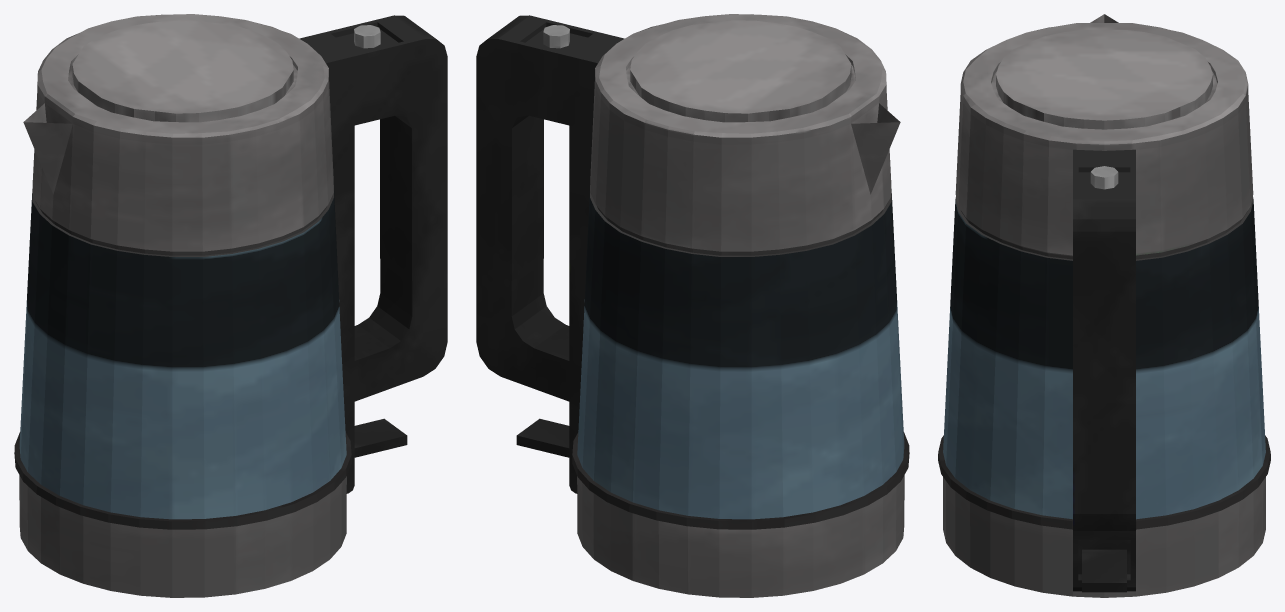
File: Electric Kettle.obj
3 renders of one model, left to right at view 1: azimuth 30°, elevation 25°; view 2: azimuth 150°, elevation 25°; view 3: azimuth 270°, elevation 25°, orthographic.
Parts seen in each view (by area): view 1: Electric_Kettle_(Handle)_Material.003, Electric_Kettle_(Handle)_Material.004; view 2: Electric_Kettle_(Handle)_Material.003, Electric_Kettle_(Handle)_Material.004; view 3: Electric_Kettle_(Handle)_Material.003, Electric_Kettle_(Handle)_Material.004.
Boxes of the visible parts, x1,y1,x2,y2 form: Electric_Kettle_(Handle)_Material.003: (14, 14, 351, 597); Electric_Kettle_(Handle)_Material.004: (299, 15, 447, 493); Electric_Kettle_(Handle)_Material.003: (572, 14, 909, 597); Electric_Kettle_(Handle)_Material.004: (476, 15, 624, 493); Electric_Kettle_(Handle)_Material.003: (938, 14, 1270, 597); Electric_Kettle_(Handle)_Material.004: (1073, 149, 1135, 592).
Size of the model in its own units: 11.59 by 12.54 by 8.32.
